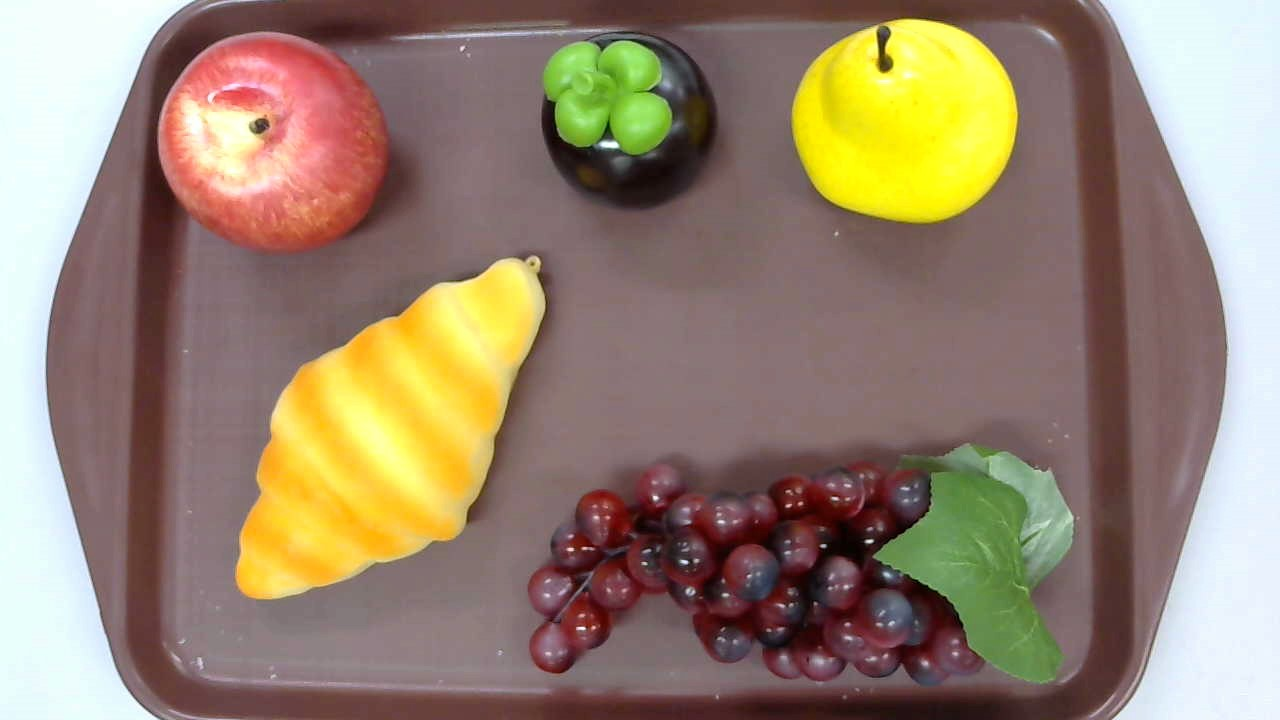croissant: (234, 256, 547, 601)
grape: (528, 442, 1074, 686)
mangosteen: (541, 31, 719, 210)
red apple: (157, 31, 390, 256)
yellow pear: (791, 19, 1019, 224)
